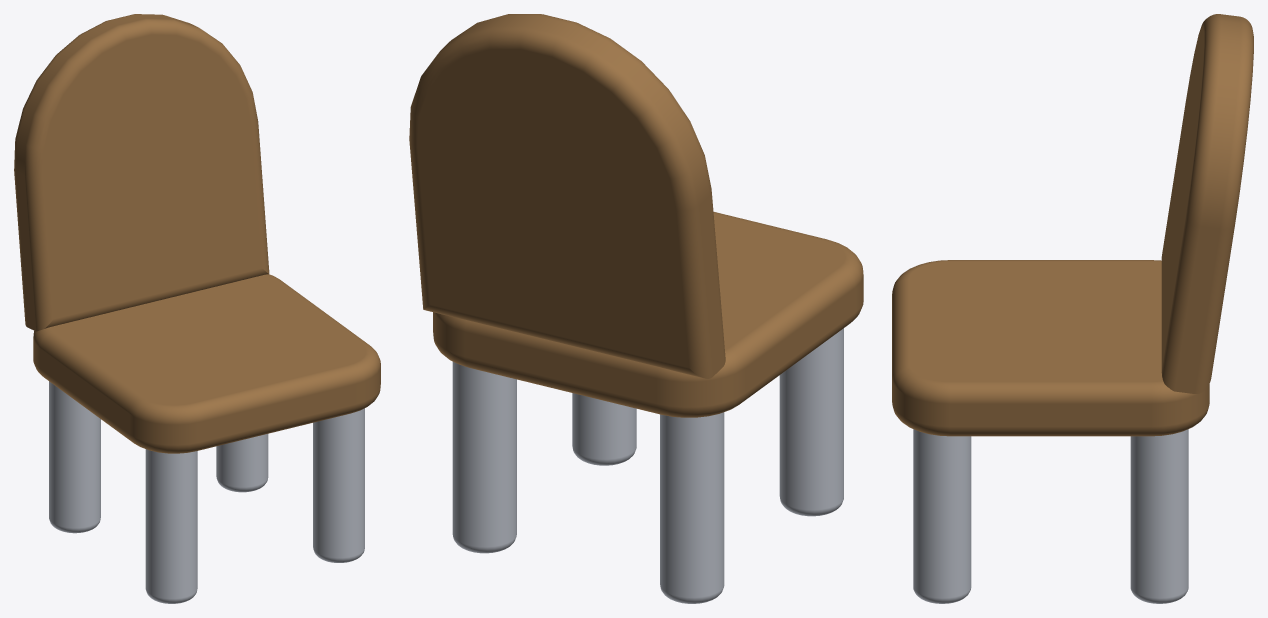
The model's file is Chair.glb.
3 views of the same model, side by side, from view 1: azimuth 30°, elevation 25°; view 2: azimuth 150°, elevation 25°; view 3: azimuth 270°, elevation 25° (orthographic). The views are drawn at different scales.
Visible parts, largest first — view 1: chairSeat (×2), metalLight (×4); view 2: chairSeat (×2), metalLight (×4); view 3: chairSeat (×2), metalLight (×2).
Boxes of the visible parts, <box> form: chairSeat (×2): <box>14,14,380,453</box>; metalLight (×4): <box>49,381,364,603</box>; chairSeat (×2): <box>409,14,863,417</box>; metalLight (×4): <box>452,328,843,603</box>; chairSeat (×2): <box>892,14,1253,436</box>; metalLight (×2): <box>913,429,1188,603</box>.
Bounding box in the file's own units: 0.38 × 0.6866 × 0.4328.
